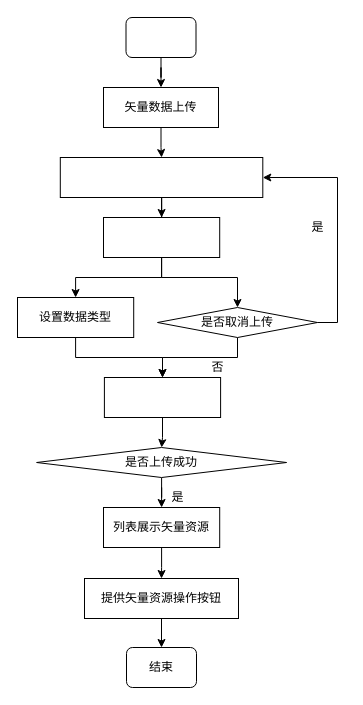
This 363x705 diagram has some shape labels left out. The shapes that lost their labels are listed below. From the top down, each one's centre as x and y in pixels, then its label:
the point at 160,37: 开始
the point at 161,177: 选择zip压缩文件、dxf文件
the point at 161,237: 展示上传列表
the point at 162,397: 上传
